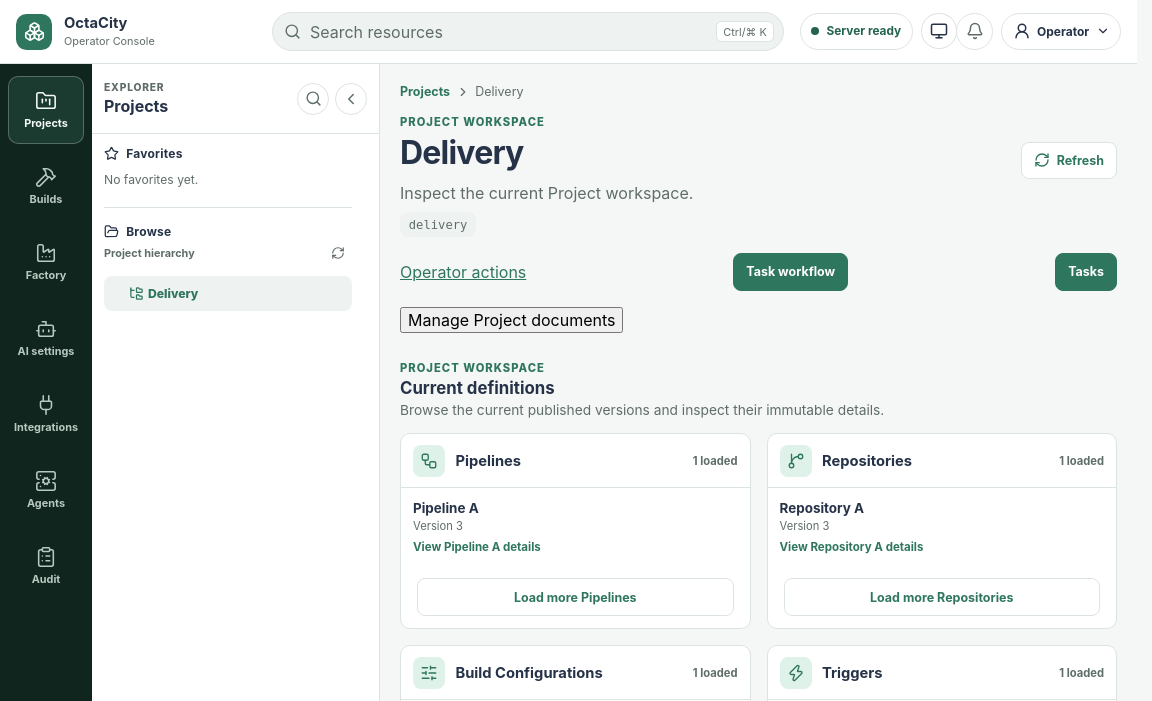
Test case: Project definitions › paginates every definition section with an independent server cursor
Click the button "Load more Pipelines" at (575, 597), box [417,578,734,616]
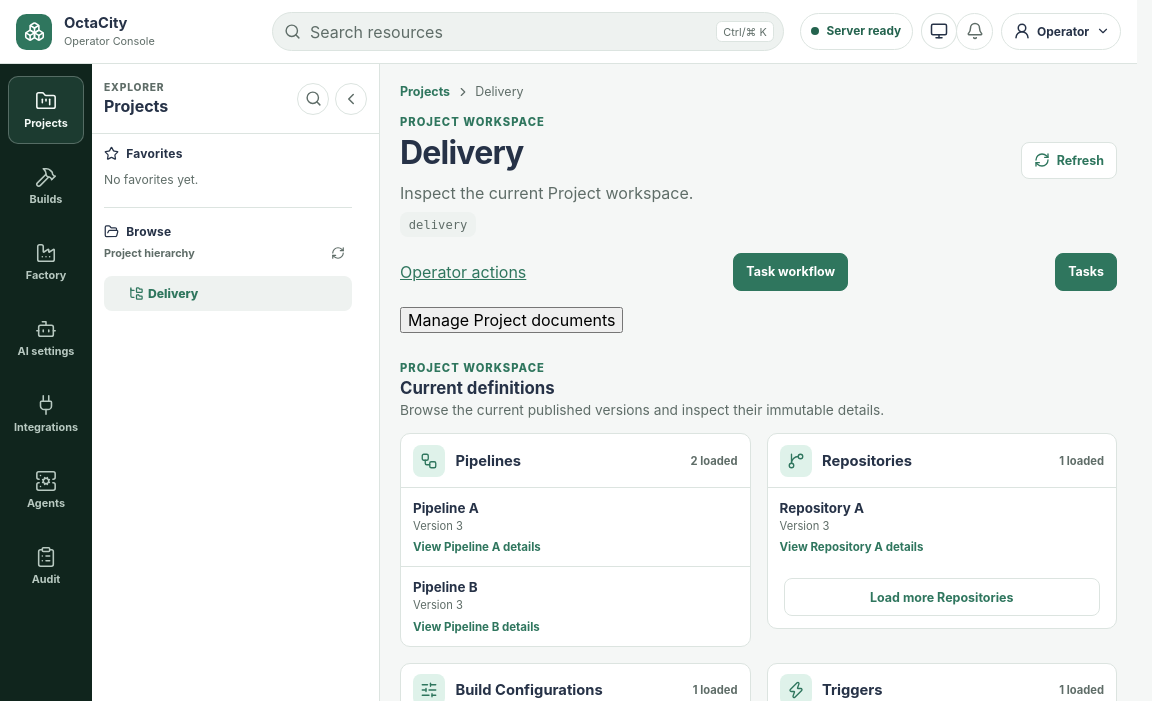
Result: the text "Pipeline B" is shown at [413,580,478,596]
Click the button "Load more Repositories" at (942, 597), box [784,578,1100,616]
(page scrolled)
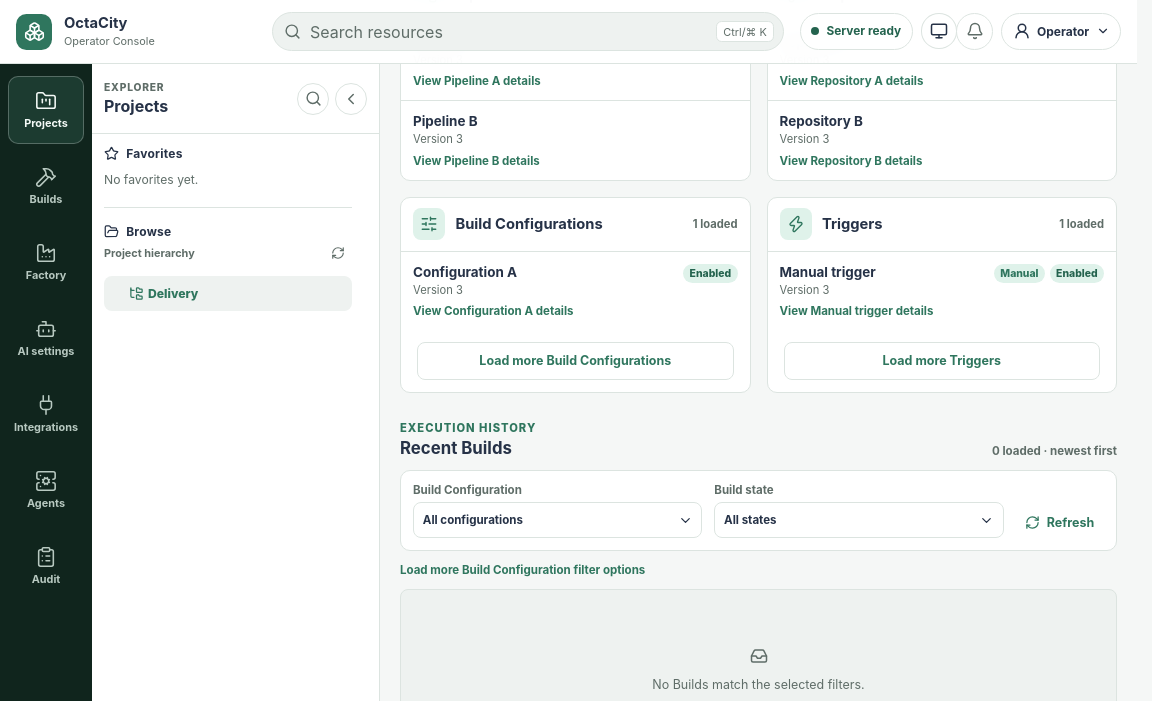
Result: the text "Repository B" is shown at [780,114,863,130]
Click the button "Load more Build Configurations" at (575, 361), box [417,342,734,380]
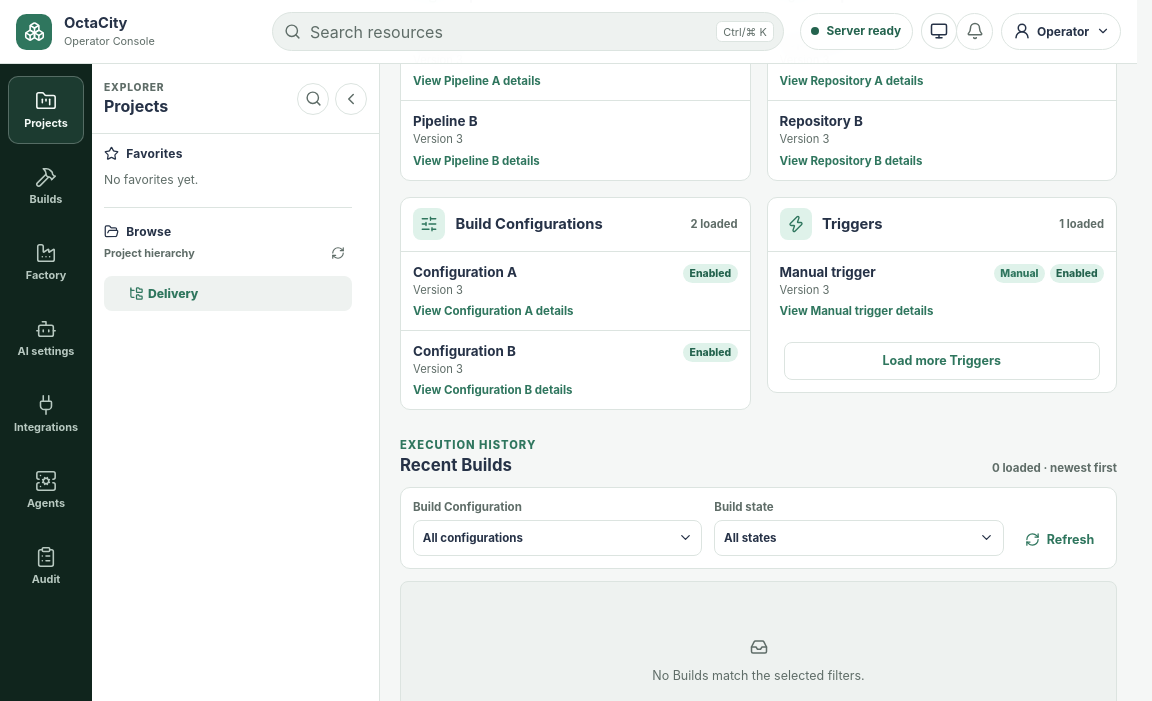
Result: the text "Configuration B" is shown at [413,343,516,359]
Click the button "Load more Triggers" at (942, 361), box [784,342,1100,380]
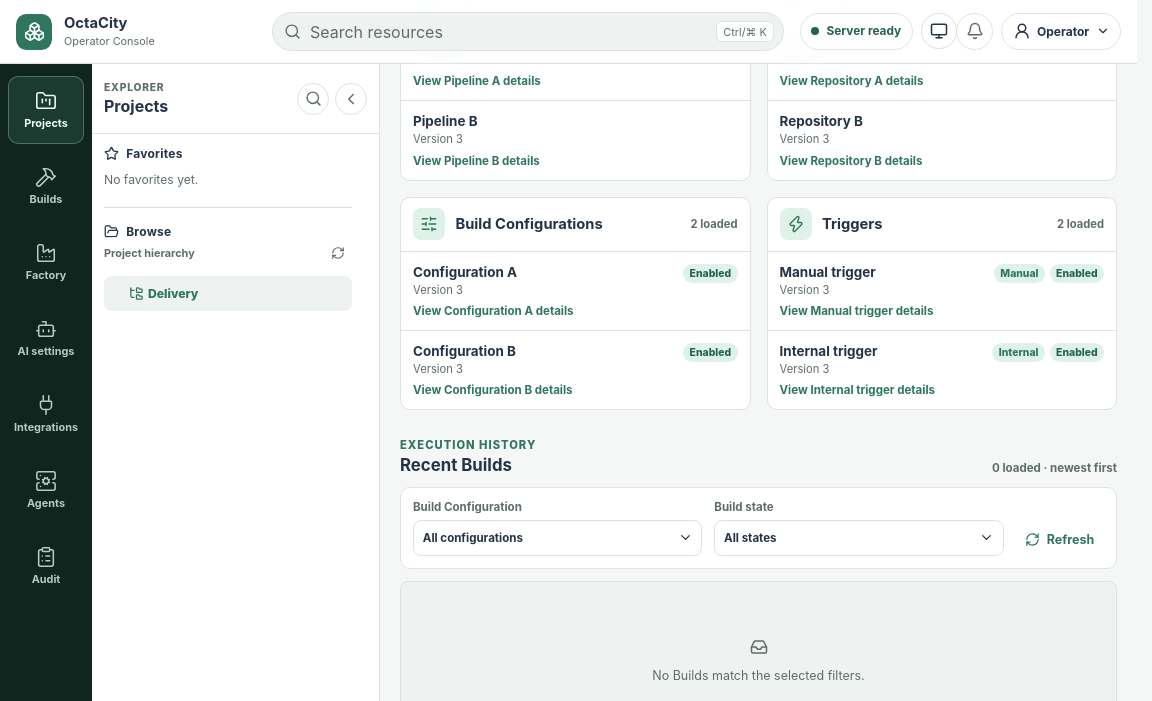
Result: the text "Internal trigger" is shown at [780,343,878,359]
